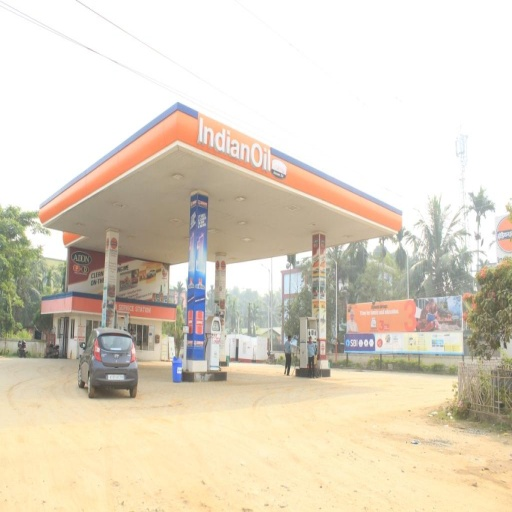roof: (37, 105, 402, 265)
